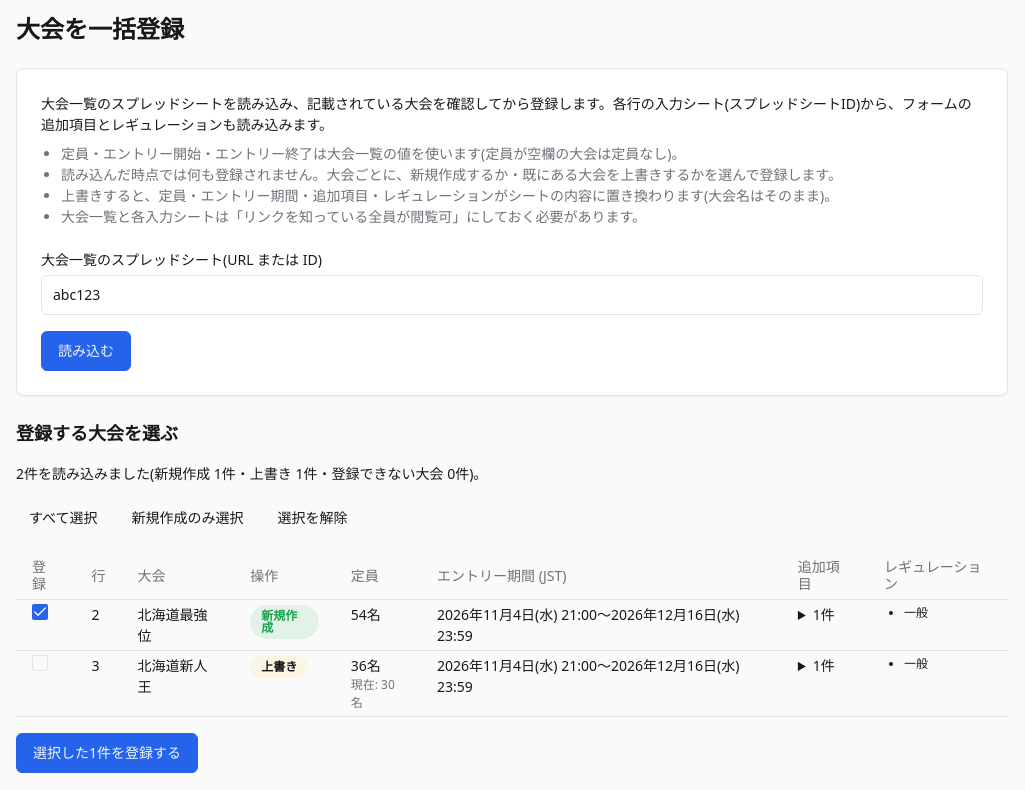
admin tournament import +page.svelte › chooses all, or none, at once
Click the button "すべて選択" at point(63, 518), box top-left (16, 500), bottom-right (110, 536)
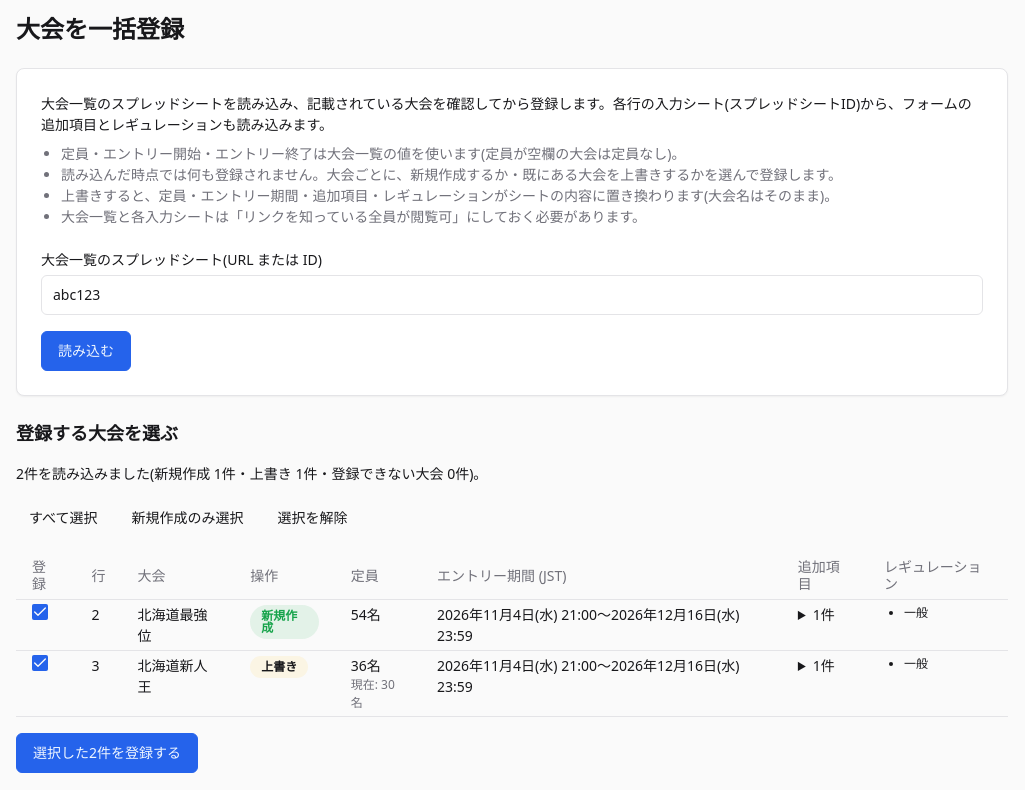
Expected: the button "選択した2件を登録する" is enabled, top-left (16, 733), bottom-right (198, 773)
Now the checkbox named "北海道新人王を上書きする" is checked, box top-left (32, 655), bottom-right (48, 671)
Click the button "選択を解除" at point(312, 518), box top-left (264, 500), bottom-right (360, 536)
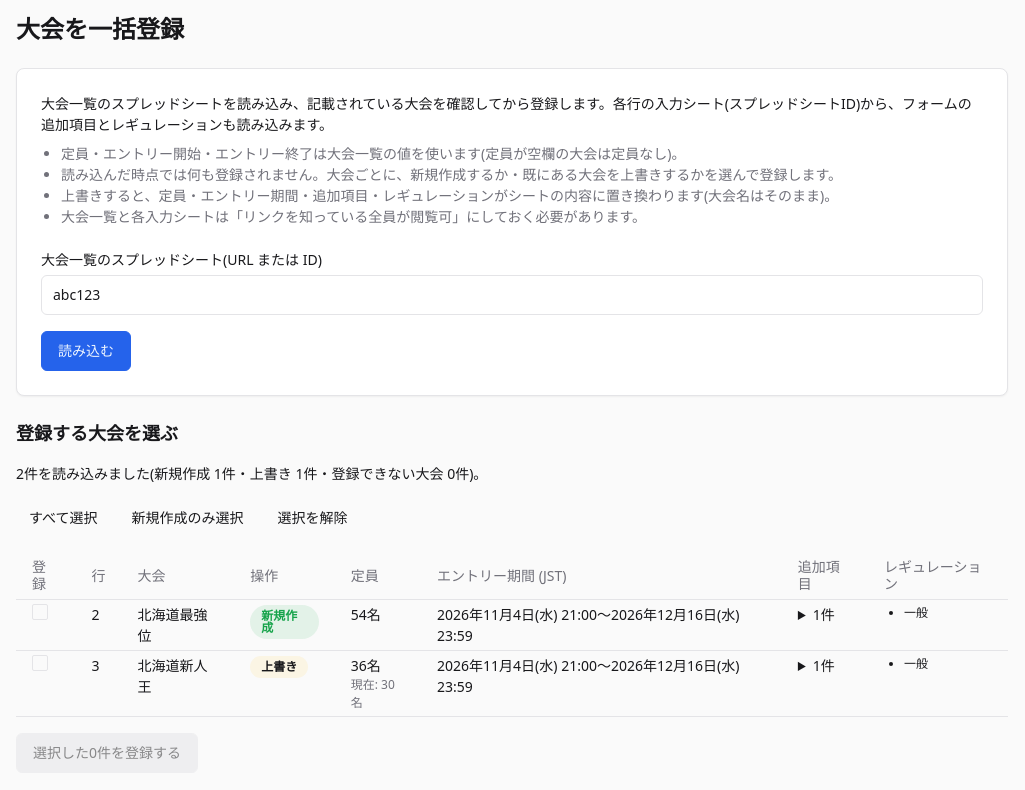
Now the button "選択した0件を登録する" is disabled, box top-left (16, 733), bottom-right (198, 773)
